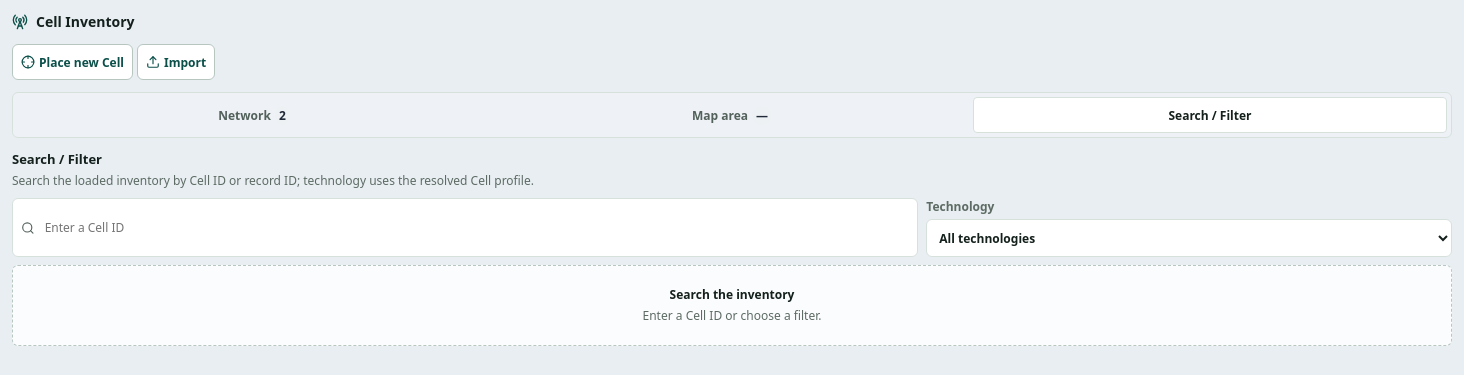
it: InventoryPanel working sets › renders only the current Network IDs in their supplied request order
Click the button "Network 2" at (254, 115), box x1=17 y1=97 x2=491 y2=133
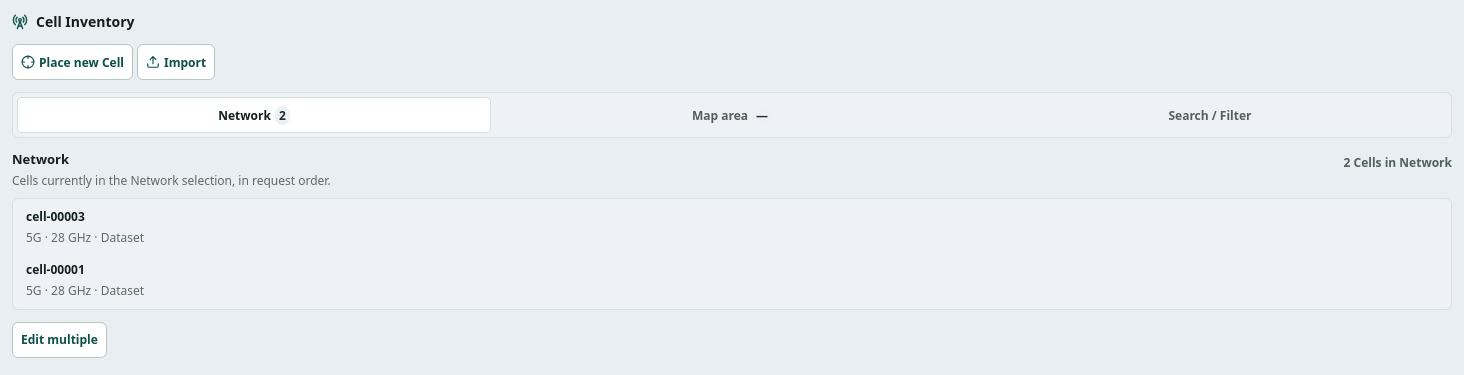
Result: the number of buttons named "Edit Cell" is 2 at x1=17 y1=203 x2=1447 y2=252; x1=17 y1=256 x2=1447 y2=304
